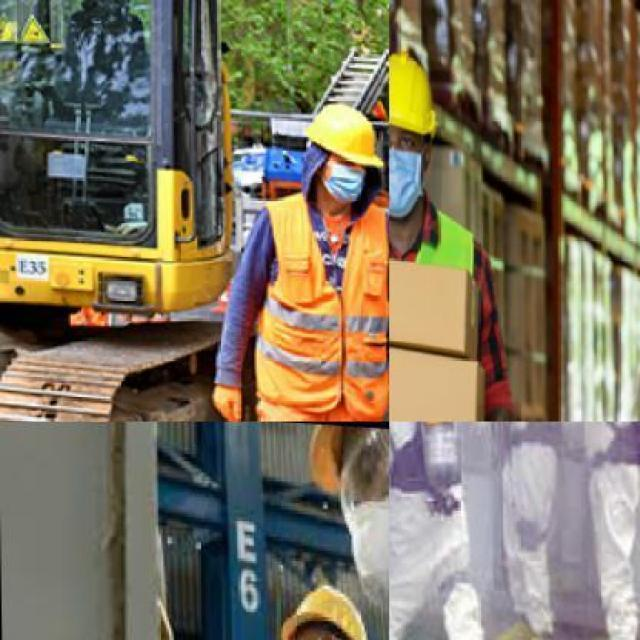hat: (286, 576, 383, 638), (308, 96, 388, 162), (389, 36, 437, 138), (303, 422, 352, 498)
